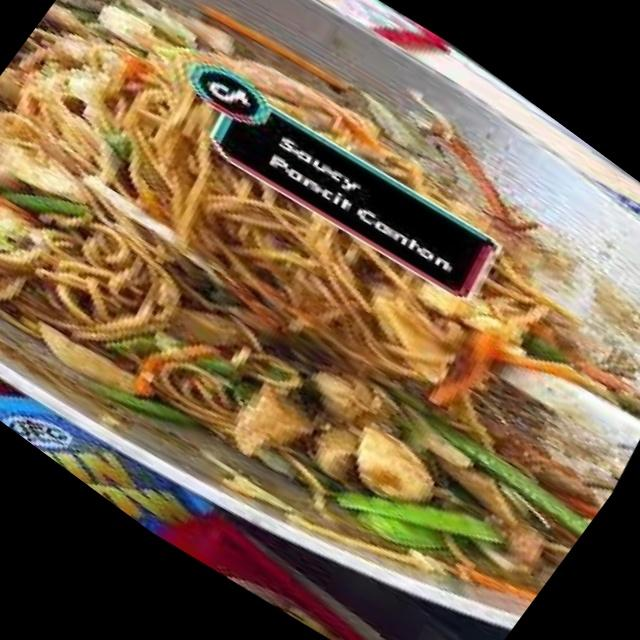pancit bihon: (0, 7, 635, 569), (168, 0, 580, 361)
